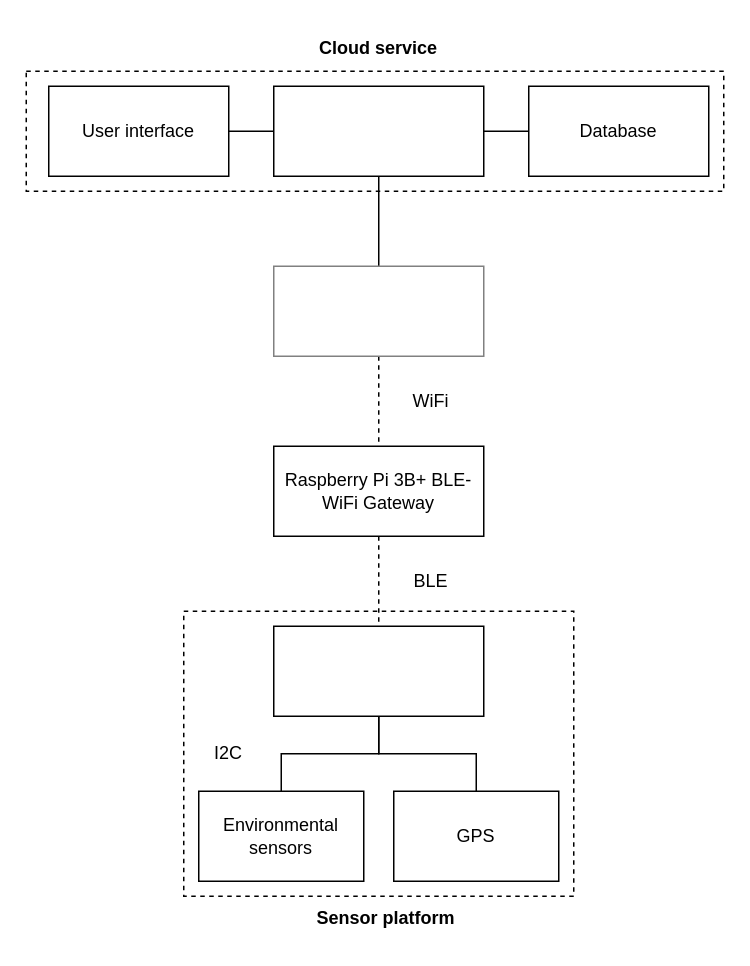
Image size: 750x966. Some labels were removed from this diagram. Each missing label, with the centre of its shape:
Backend: [378,130]
nRF52840 BLE module and board controller: [378,670]
WiFi access point: [378,310]
